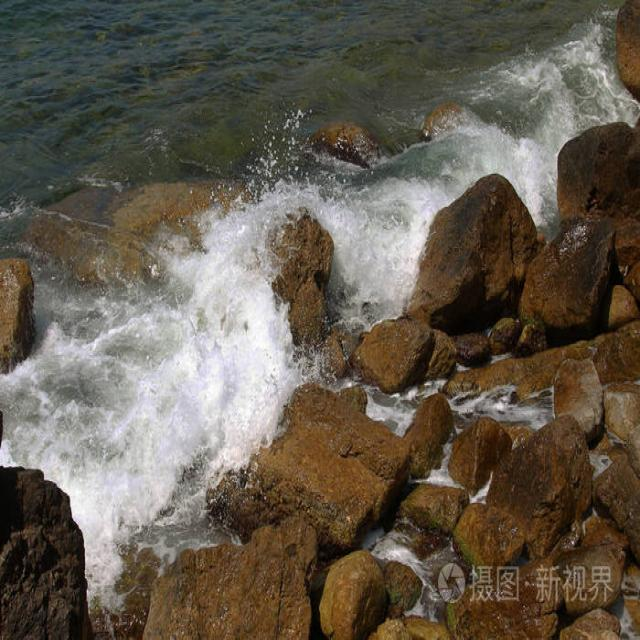reef: (94, 151, 521, 595)
